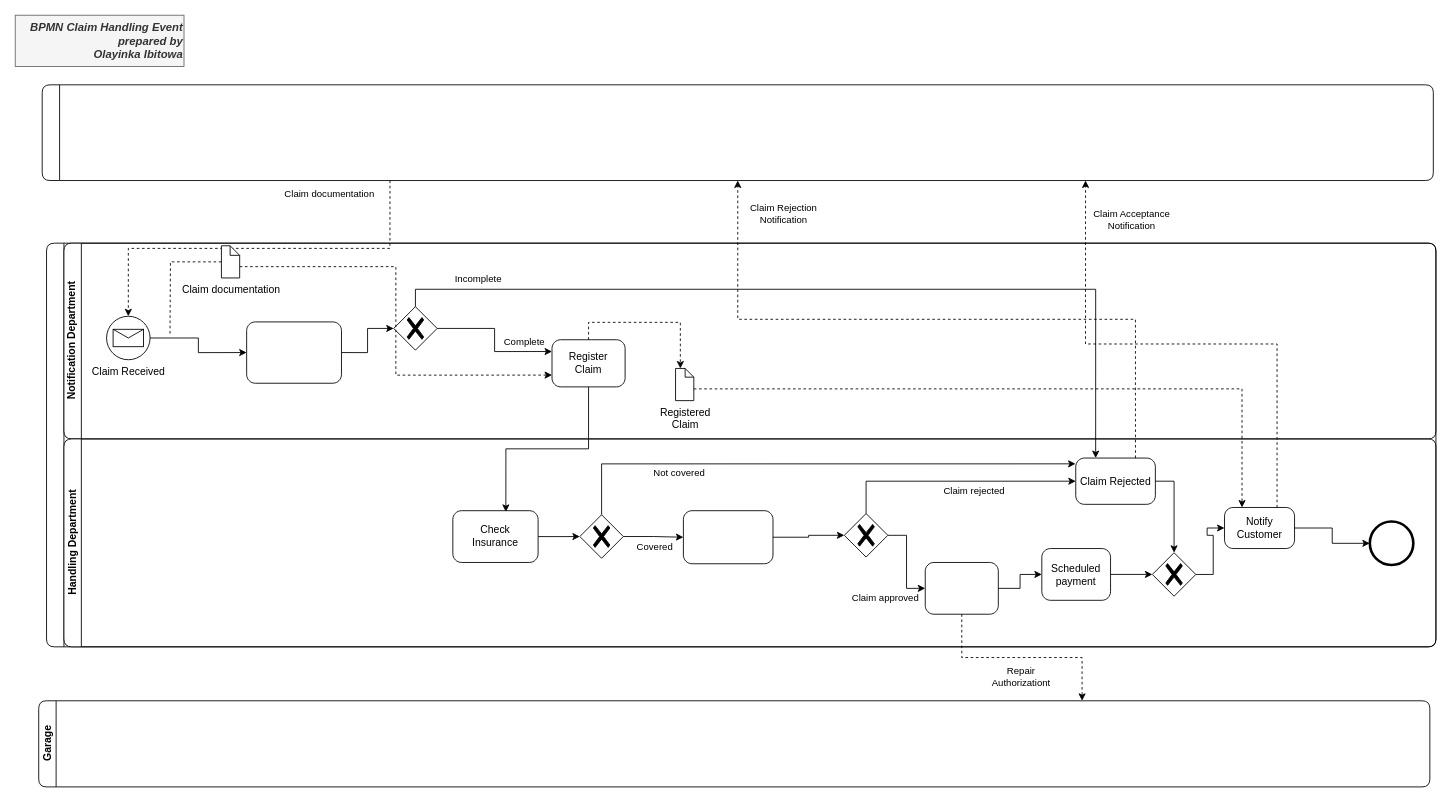
Image size: 1451x802. Some labels were removed from this diagram. The box of each missing label's shape, as (x1, y1, x2, y2) in pixels:
Authorize Repair: (924, 562, 998, 614)
Car Insurance: (46, 242, 1436, 647)
Check Claim Assessment: (683, 510, 773, 564)
Claim completeness check: (246, 321, 341, 383)
Claim fulfilled: (1369, 521, 1413, 565)
Customer: (41, 84, 1433, 181)
